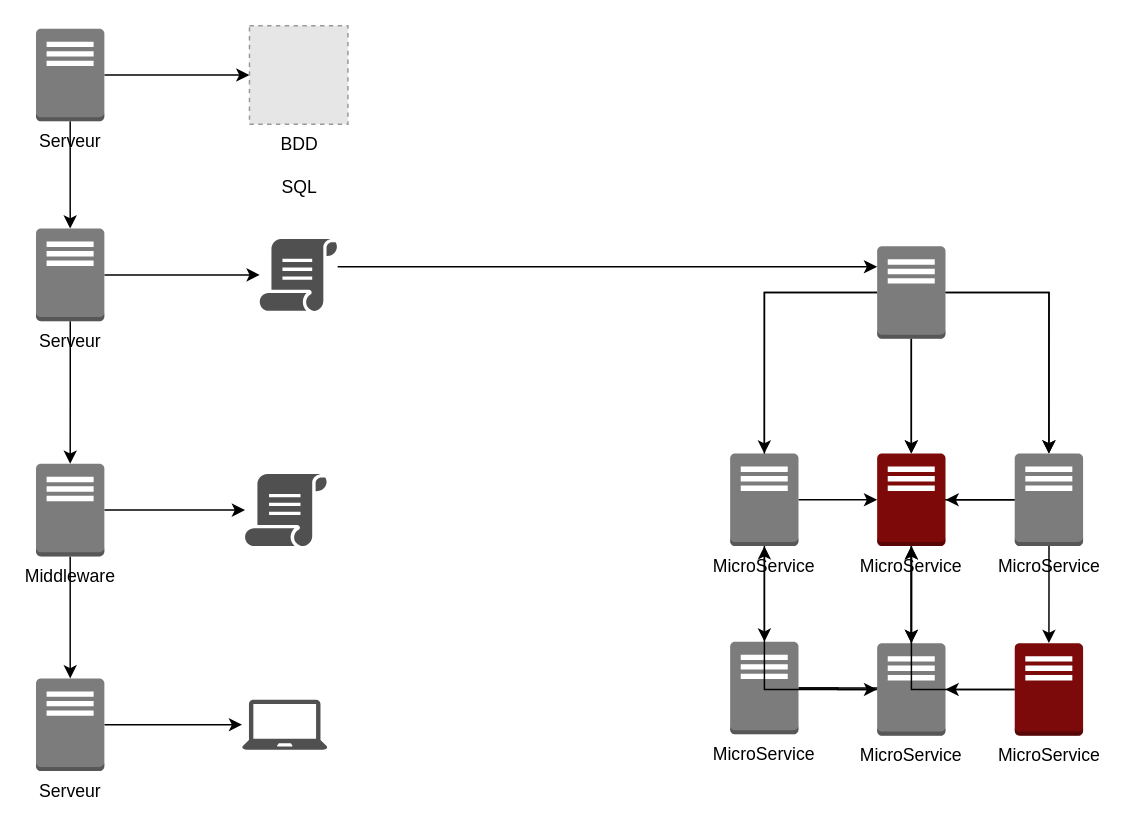
Image size: 1125x828. Some labels were removed from this diagram. Grey dashed boxes stand in for pictures. The box of each missing label's shape, as (x1, y1, x2, y2) in pixels:
API Métier: (244, 473, 327, 545)
Back Standard d'API: (259, 238, 337, 310)
Front: (241, 699, 327, 749)
Serveur physique: (876, 245, 946, 339)
